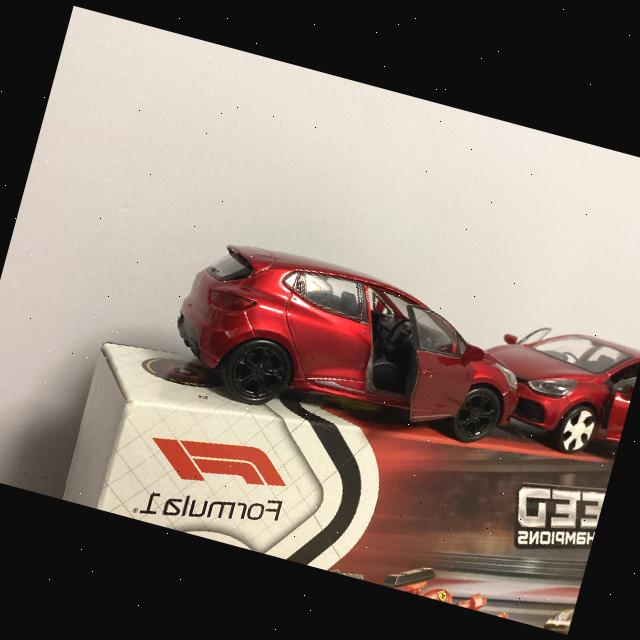Dogru_Jant: (229, 342, 288, 402), (455, 389, 499, 439)
Yanlis_Jant: (556, 404, 598, 456)
